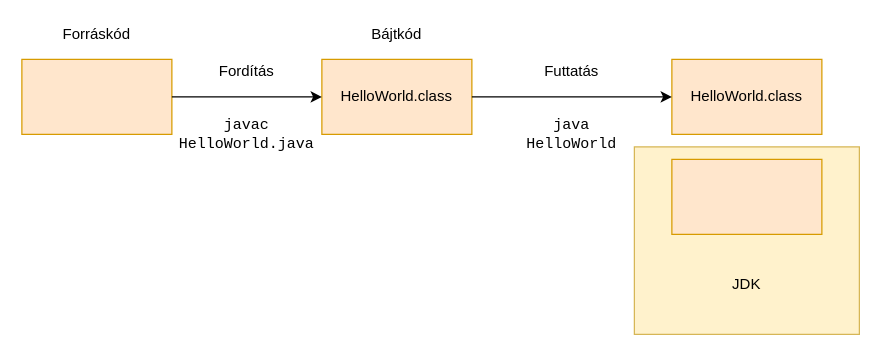
This 881x356 diagram has some shape labels left out. The shapes that lost their labels are listed below. From the top down, each one's centre as x and y in pixels, then its label:
the point at 96,96: HelloWorld.java
the point at 746,196: JVM
